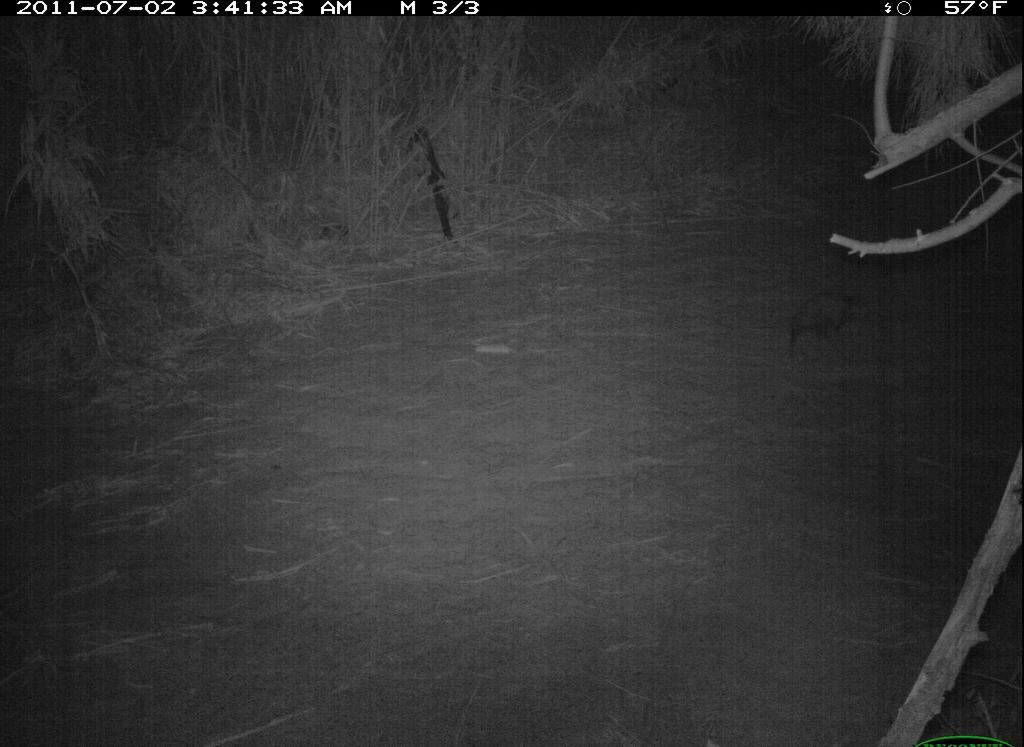opossum: (775, 272, 876, 367)
